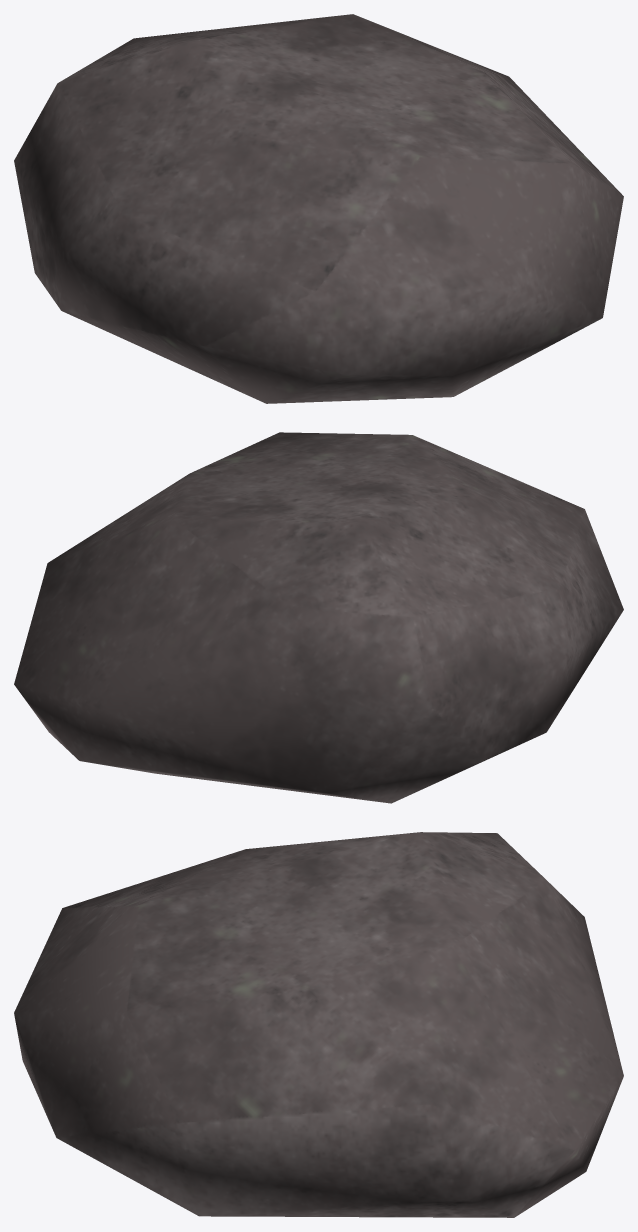
Rendered from SM_SmallRock5.fbx.
3 views of the same model, one above another, from view 1: azimuth 30°, elevation 25°; view 2: azimuth 150°, elevation 25°; view 3: azimuth 270°, elevation 25° (orthographic). The views are drawn at different scales.
Parts seen in each view (by area): view 1: SM_SmallRock5_LOD0; view 2: SM_SmallRock5_LOD0; view 3: SM_SmallRock5_LOD0.
Part boxes in pixels (<box>): SM_SmallRock5_LOD0: <box>14,14,623,403</box>; SM_SmallRock5_LOD0: <box>14,432,623,803</box>; SM_SmallRock5_LOD0: <box>14,832,623,1217</box>.
Size of the model in its own units: 27.85 by 29.36 by 13.47.
Materials: 1 (1 with a texture image).
